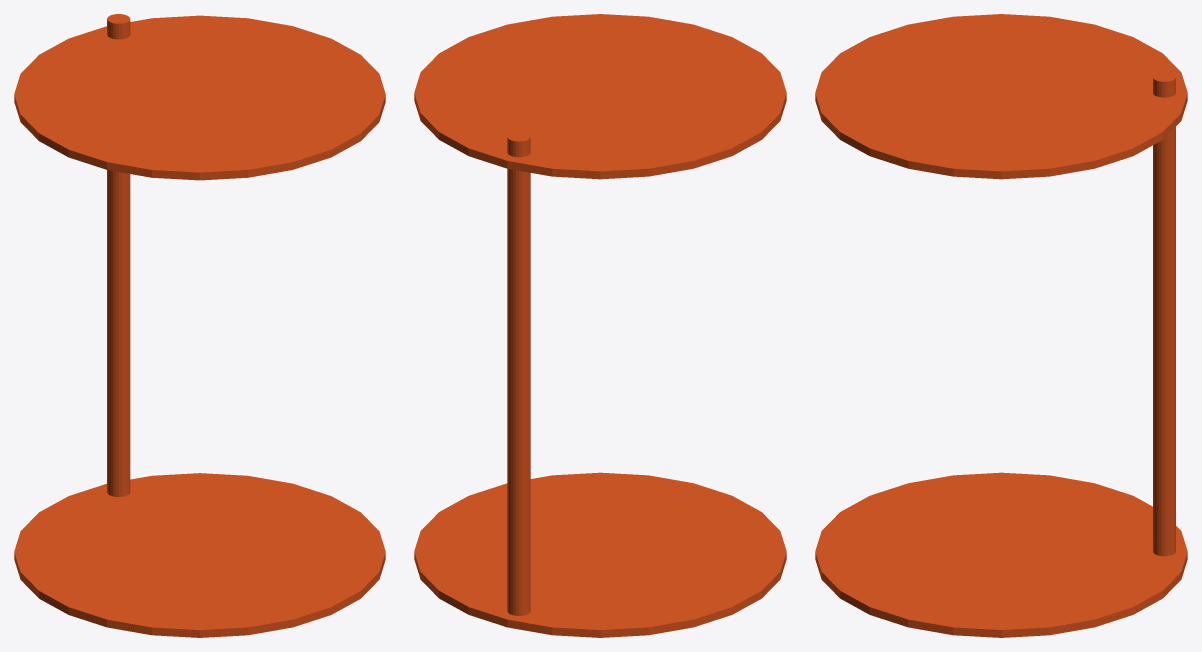
3 views of the same model, side by side, from view 1: azimuth 30°, elevation 25°; view 2: azimuth 150°, elevation 25°; view 3: azimuth 270°, elevation 25° (orthographic).
Parts seen in each view (by area): view 1: 2 tabletop, 1 base, 3 post; view 2: 2 tabletop, 1 base, 3 post; view 3: 2 tabletop, 1 base, 3 post.
Part boxes in pixels (x1,y1,x2,y2): 2 tabletop: (14, 15, 385, 180); 1 base: (14, 473, 385, 637); 3 post: (107, 14, 130, 496); 2 tabletop: (414, 14, 786, 179); 1 base: (414, 472, 786, 637); 3 post: (507, 131, 530, 615); 2 tabletop: (815, 14, 1187, 179); 1 base: (815, 472, 1187, 637); 3 post: (1153, 72, 1175, 556).
Bounding box in the file's own units: 0.7 × 1 × 0.7.
